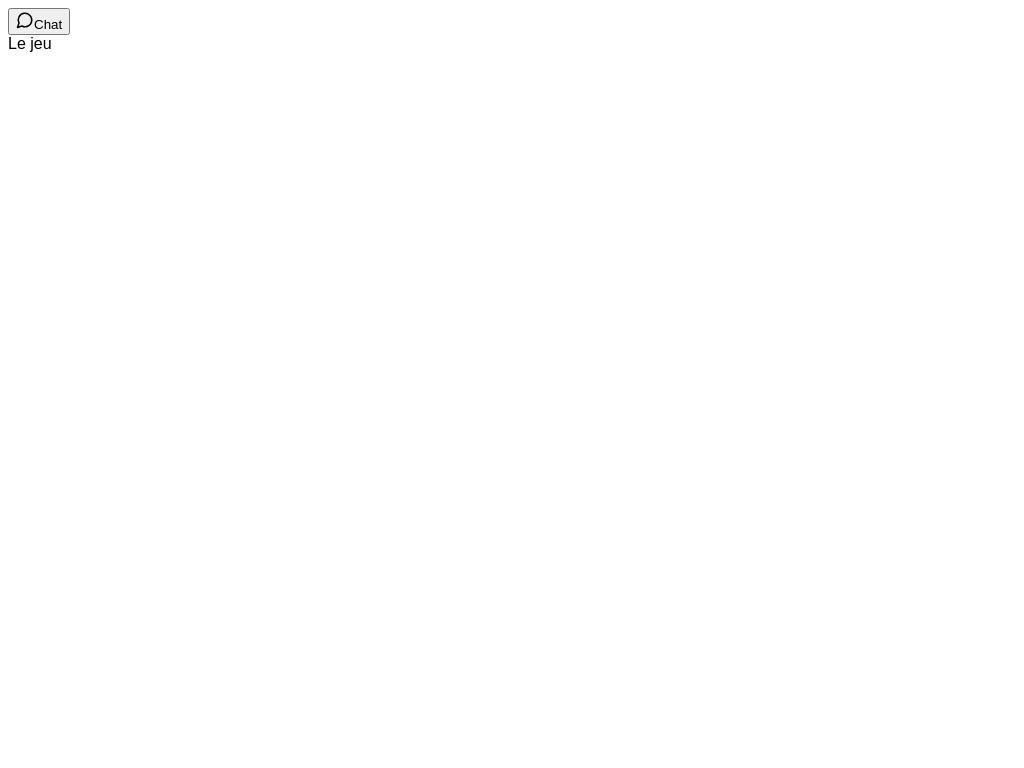
Scenario: Imitation chat › starts tucked in the header without treating history as unread
Expected: the text "1" is not shown
Click the button "Chat".
click(39, 22)  # box [8,8,70,35]
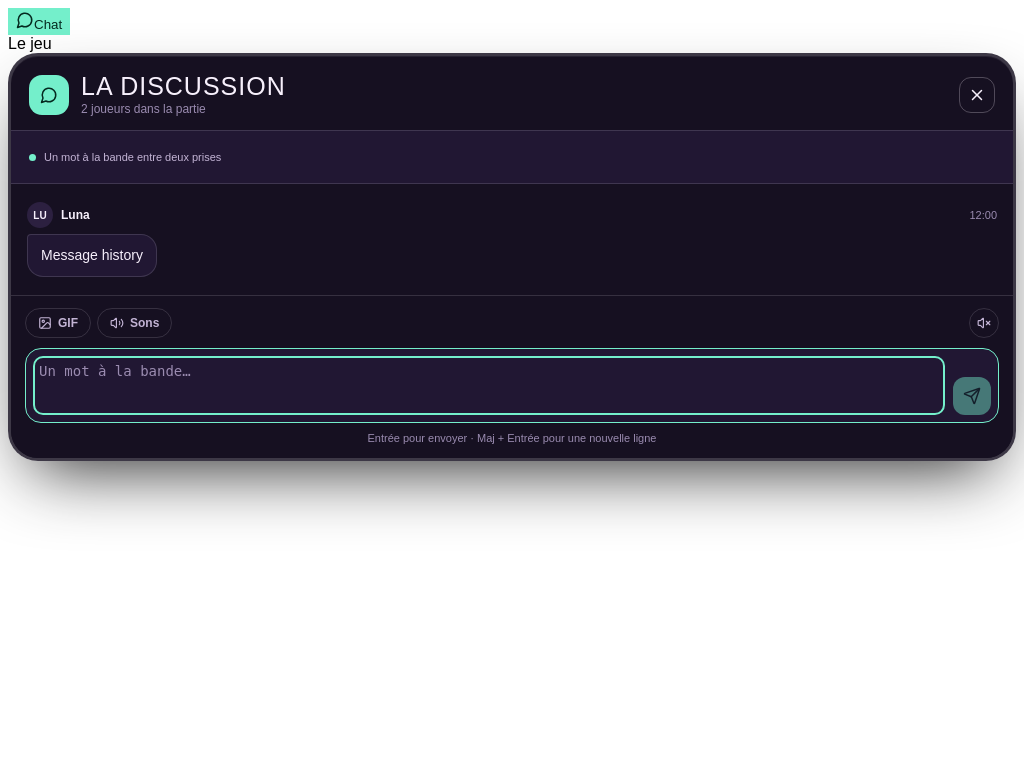
Expected: the text "Message history" is shown, [41,245,143,266]
